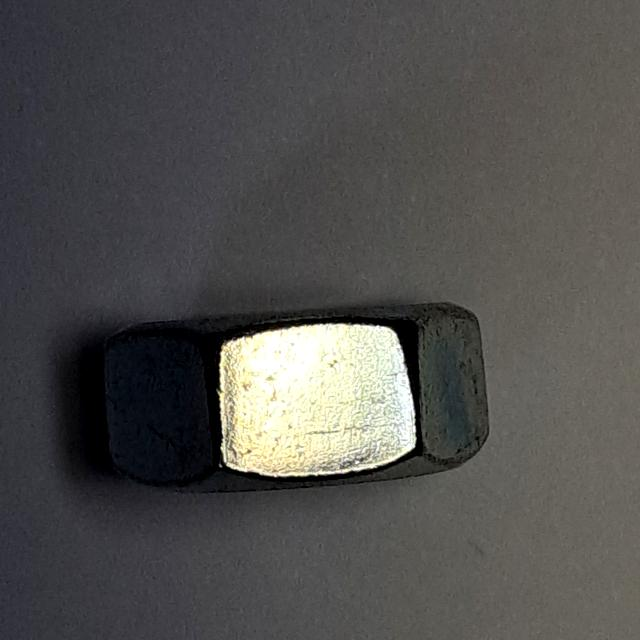Side_Excellent: (90, 269, 504, 528)
